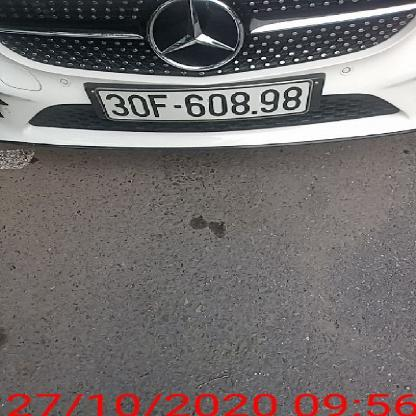biensoxe: (85, 74, 327, 136)
